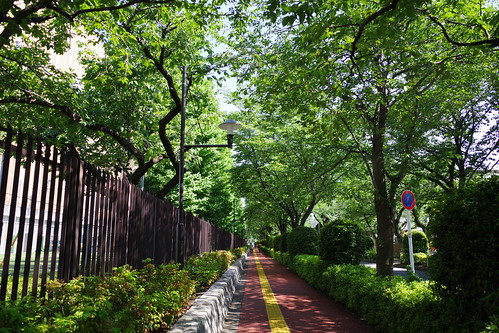sidewalk: (245, 247, 367, 333)
sign: (394, 186, 423, 280)
tree: (256, 4, 499, 300), (6, 1, 223, 212)
vegetation: (271, 187, 499, 333), (26, 243, 238, 333)
